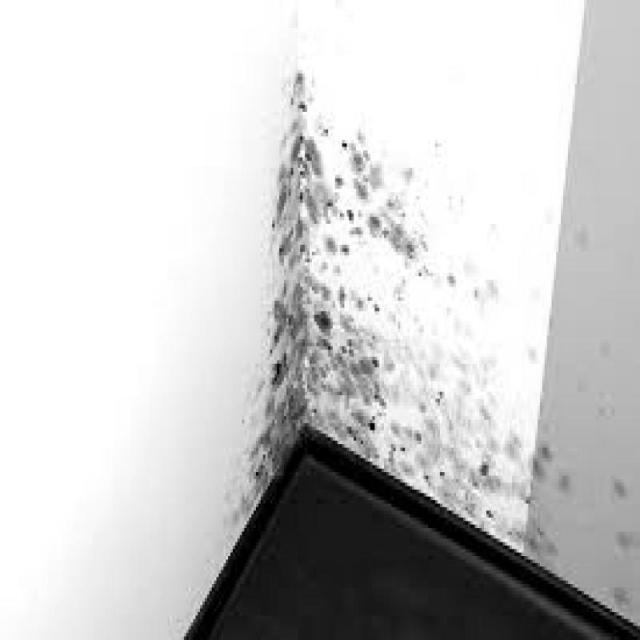stain marks: (211, 39, 640, 621)
